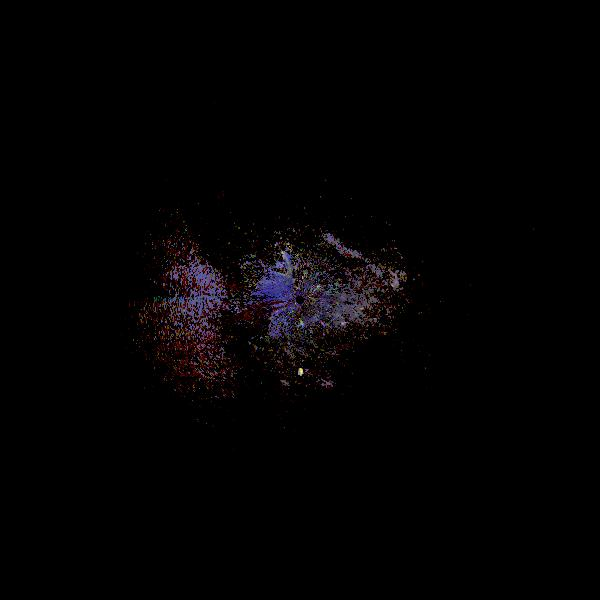roost: (295, 367, 307, 379)
